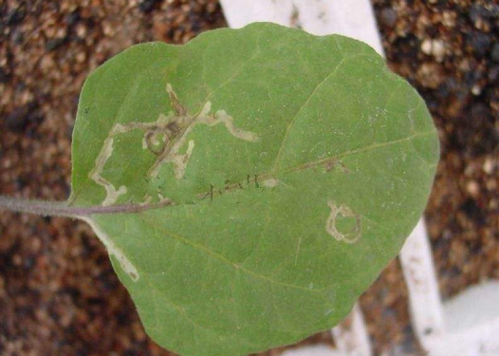liriomyza: (87, 83, 261, 208), (79, 215, 140, 283), (325, 198, 363, 245)
